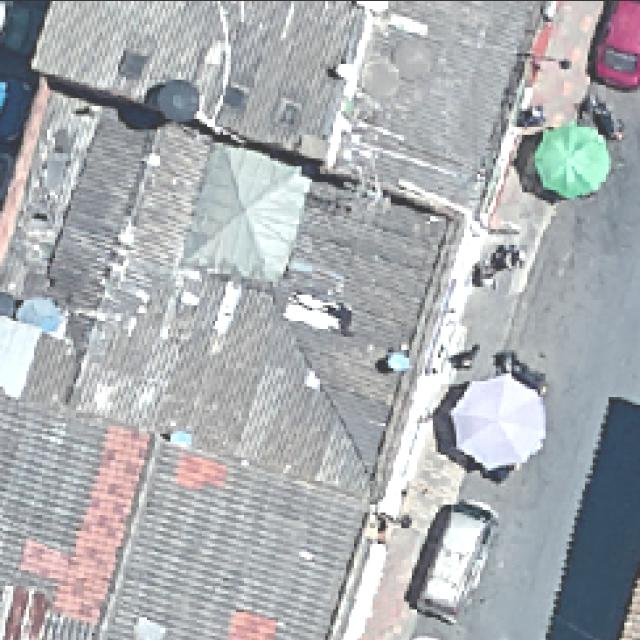vendedor_ambulante: (446, 368, 548, 472), (532, 116, 612, 198)
